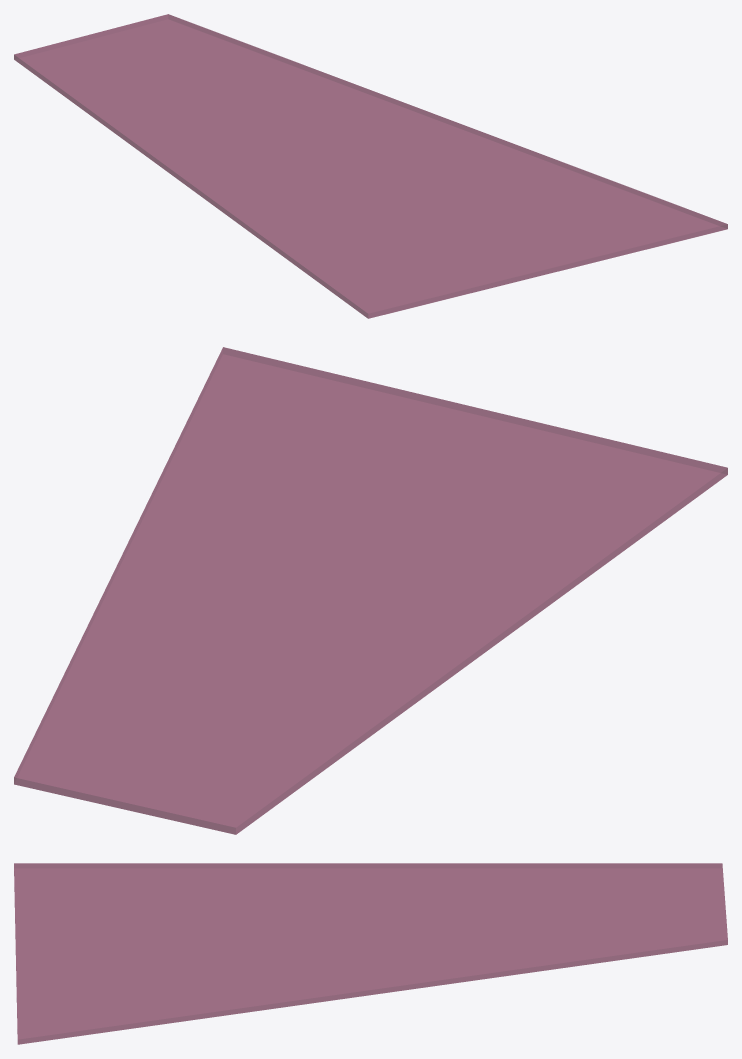
File: hl_jardim.glb
3 views of the same model, one above another, from view 1: azimuth 30°, elevation 25°; view 2: azimuth 150°, elevation 25°; view 3: azimuth 270°, elevation 25° (orthographic). The views are drawn at different scales.
Visible parts, largest first — view 1: Jardim.001; view 2: Jardim.001; view 3: Jardim.001.
Part boxes in pixels (x1,y1,x2,y2): Jardim.001: (14,14,727,318); Jardim.001: (14,347,727,834); Jardim.001: (14,863,727,1044).
Bounding box in the file's own units: 58.37 × 0.7908 × 99.81.
